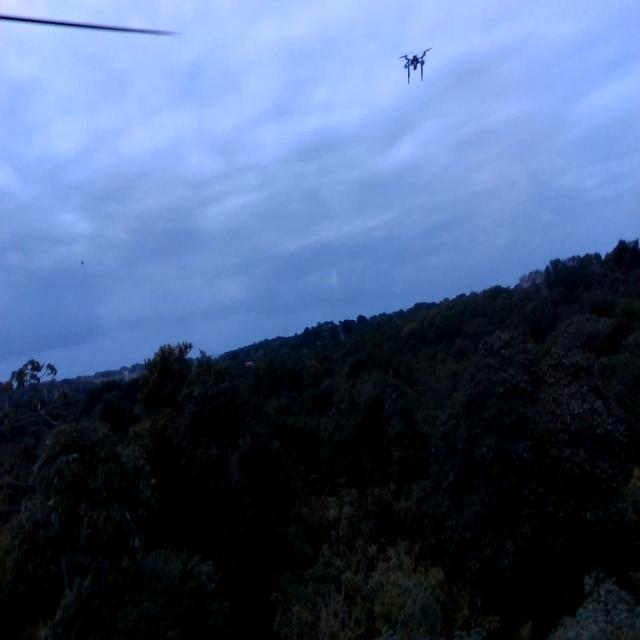-uav-: (395, 34, 433, 104)
